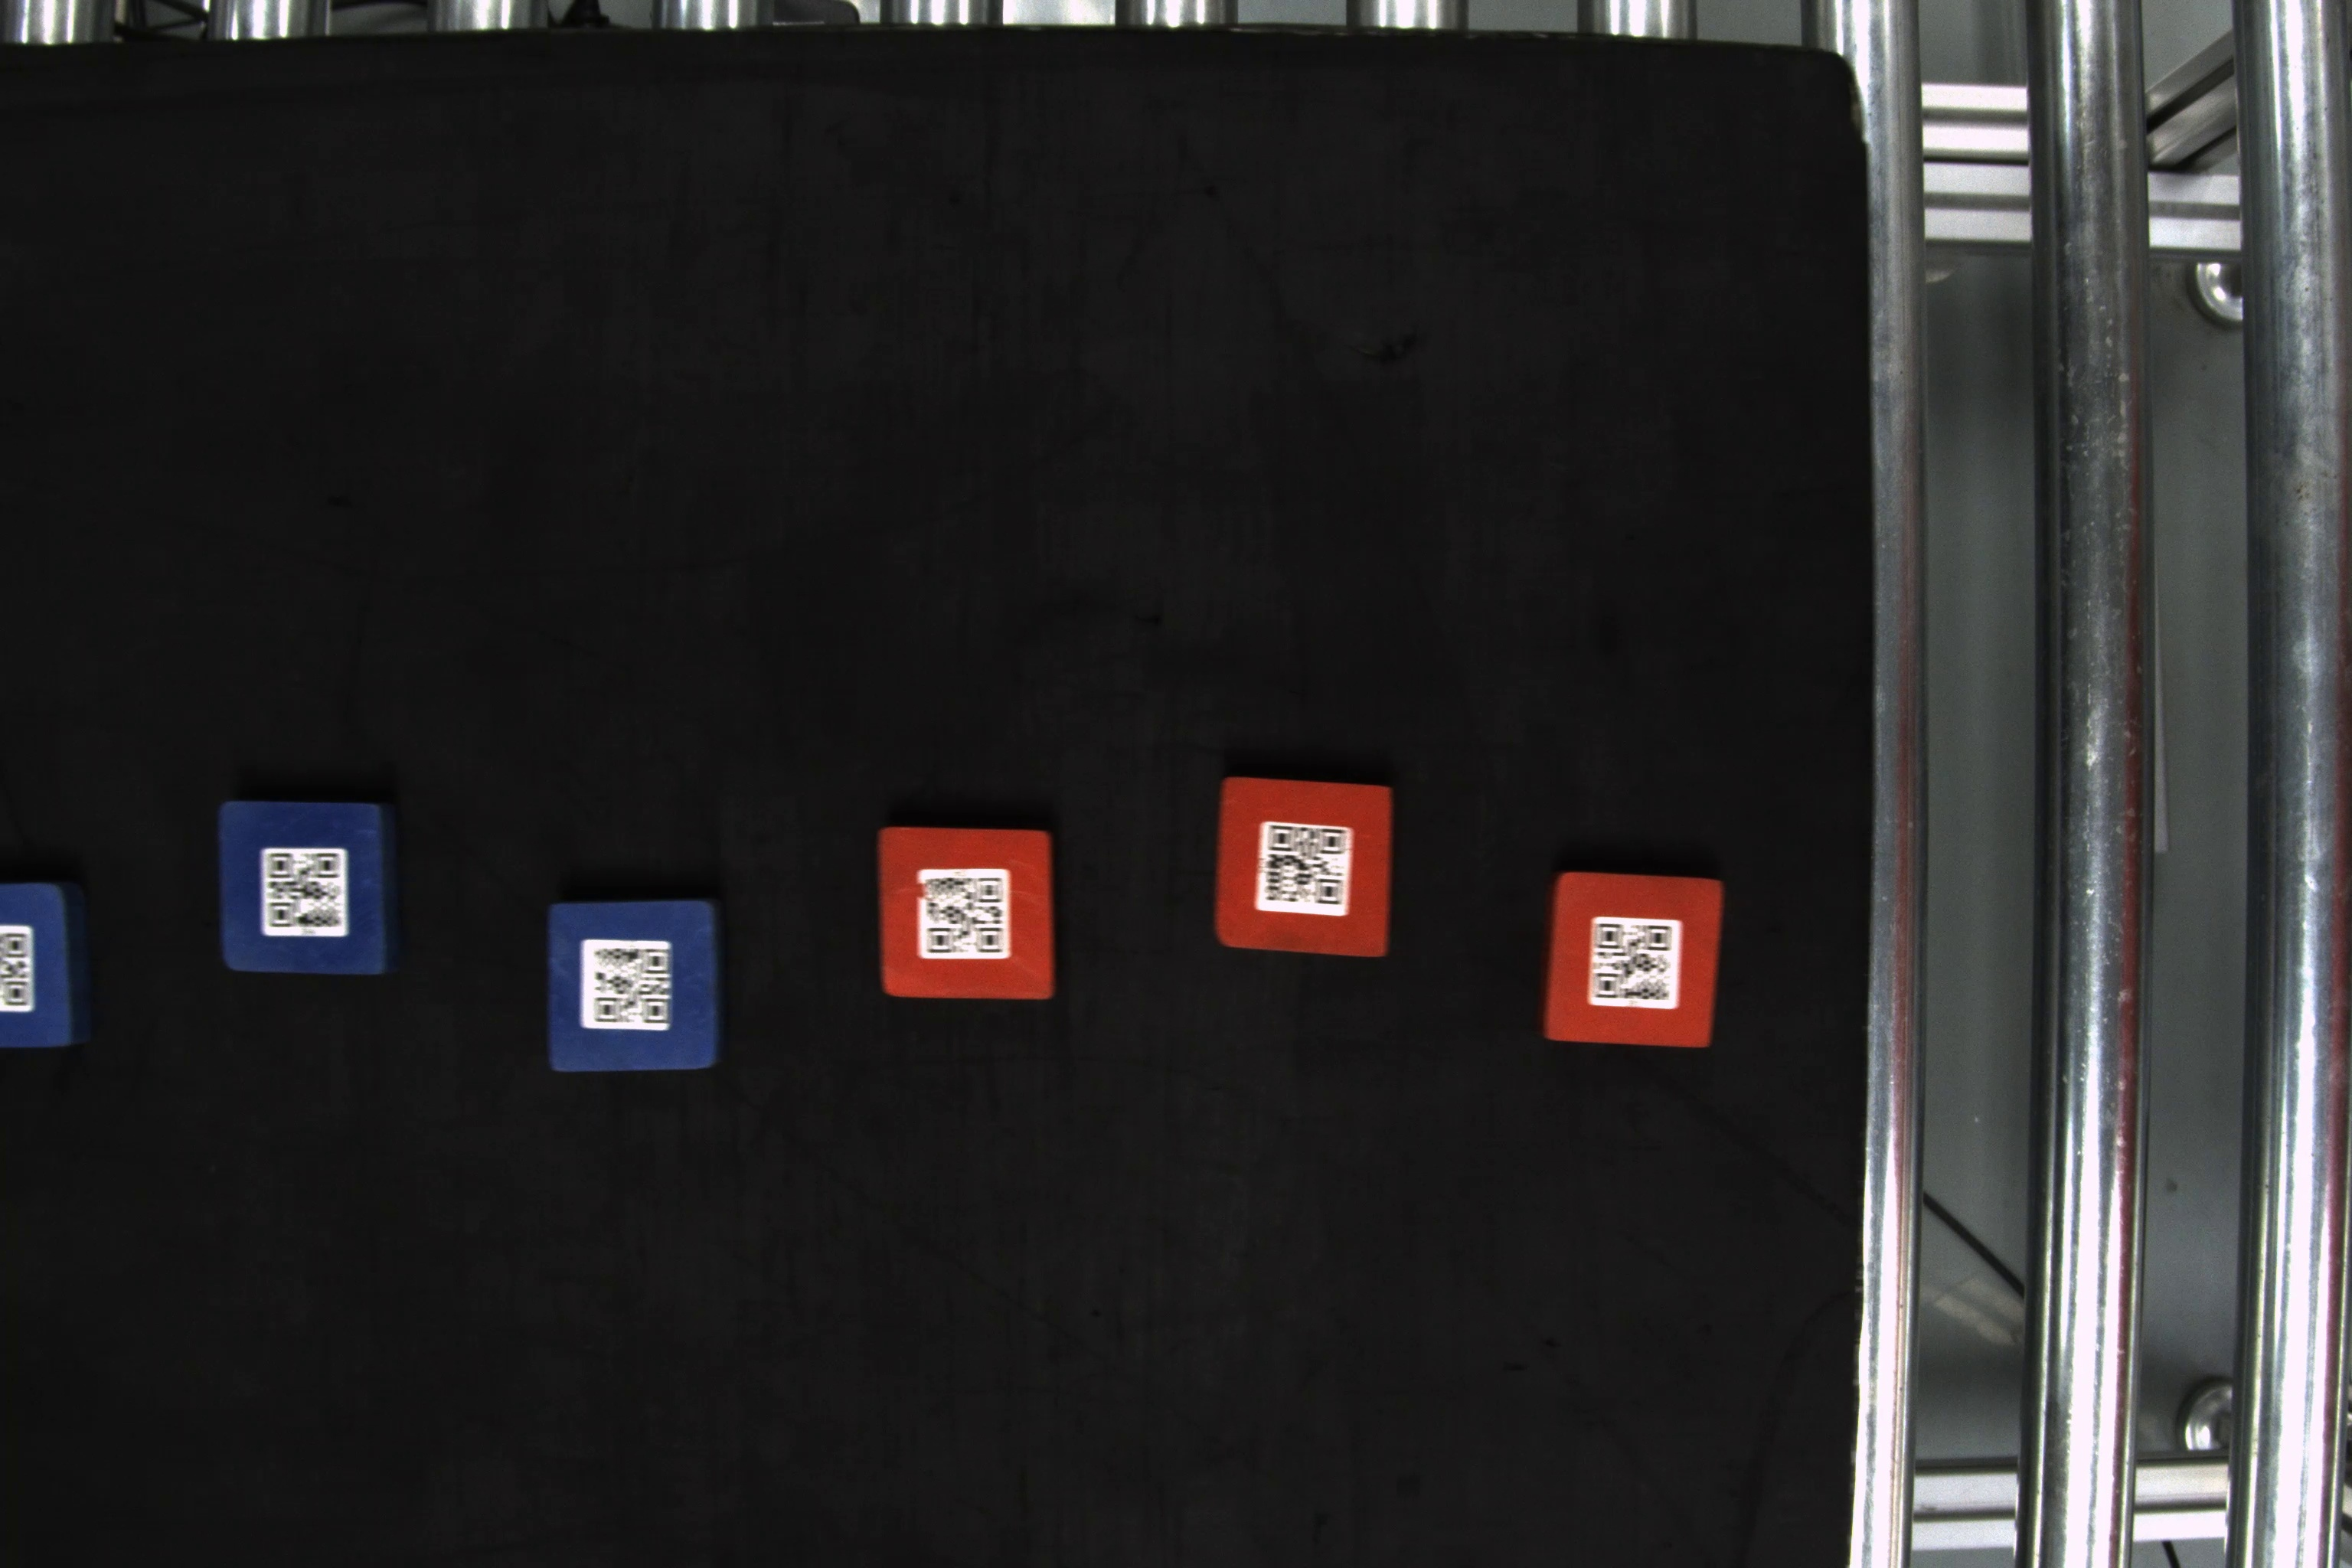wood: (871, 817, 1076, 1011), (1214, 768, 1400, 966), (212, 793, 404, 980), (544, 896, 733, 1078), (1547, 868, 1727, 1057), (0, 864, 96, 1066)
